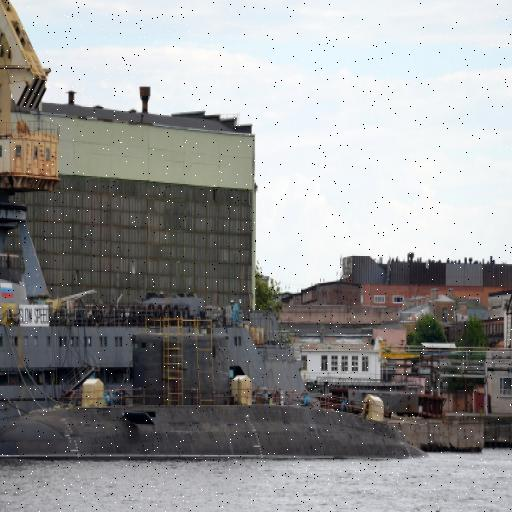submarine: (1, 331, 430, 459)
